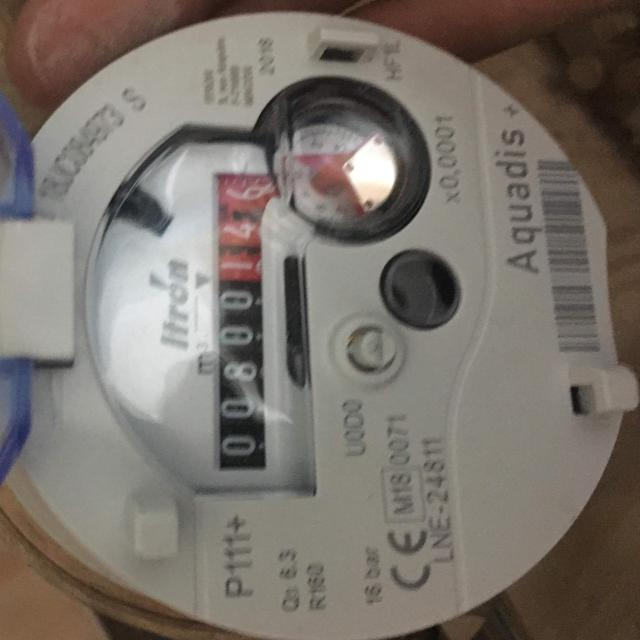gaz_meter: (8, 12, 610, 640)
indication: (208, 168, 279, 472)
